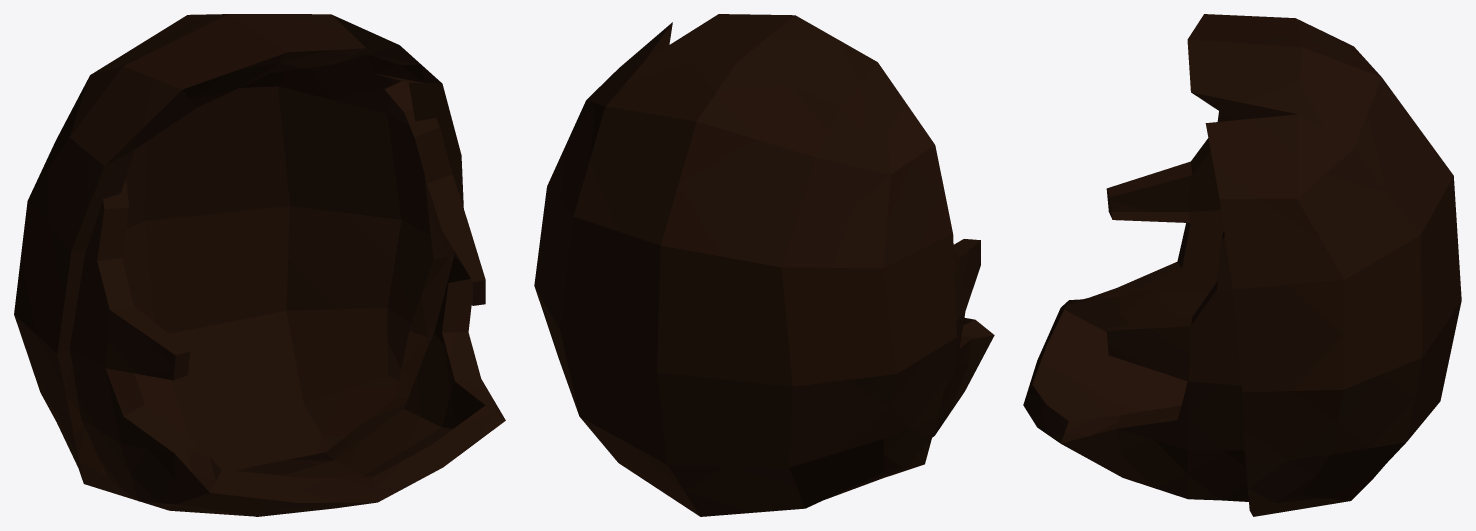
The model's file is Hair Male 10.FBX.
3 renders of one model, left to right at view 1: azimuth 30°, elevation 25°; view 2: azimuth 150°, elevation 25°; view 3: azimuth 270°, elevation 25°, orthographic. The views are drawn at different scales.
Visible parts, largest first — view 1: Hair Male 10; view 2: Hair Male 10; view 3: Hair Male 10.
Boxes of the visible parts, <box> form: Hair Male 10: <box>14,14,505,516</box>; Hair Male 10: <box>534,14,994,516</box>; Hair Male 10: <box>1023,14,1461,516</box>.
Bounding box in the file's own units: 35.25 × 40.69 × 34.82.
